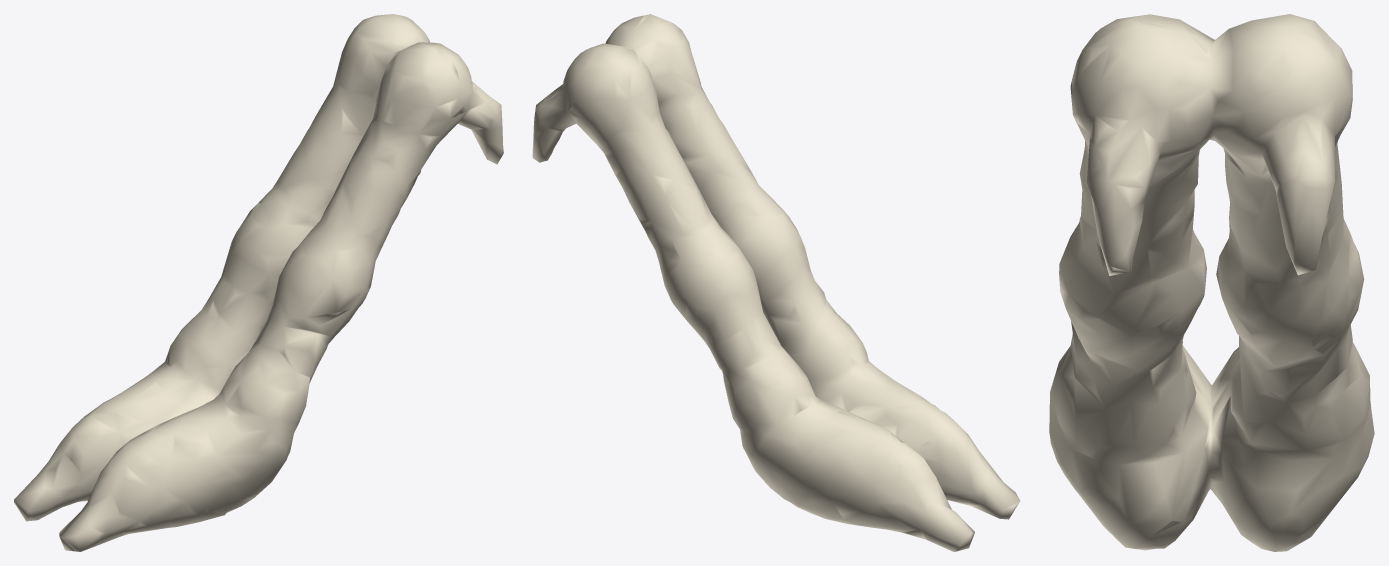
File: hindfoot_r.glb
3 views of the same model, side by side, from view 1: azimuth 30°, elevation 25°; view 2: azimuth 150°, elevation 25°; view 3: azimuth 270°, elevation 25° (orthographic). The views are drawn at different scales.
Visible parts, largest first — view 1: geometry_0; view 2: geometry_0; view 3: geometry_0.
Boxes of the visible parts, x1=… form: geometry_0: x1=14, y1=14, x2=503, y2=551; geometry_0: x1=532, y1=14, x2=1020, y2=551; geometry_0: x1=1049, y1=14, x2=1374, y2=551.
Size of the model in its own units: 0.3608 by 0.3307 by 0.1396.
